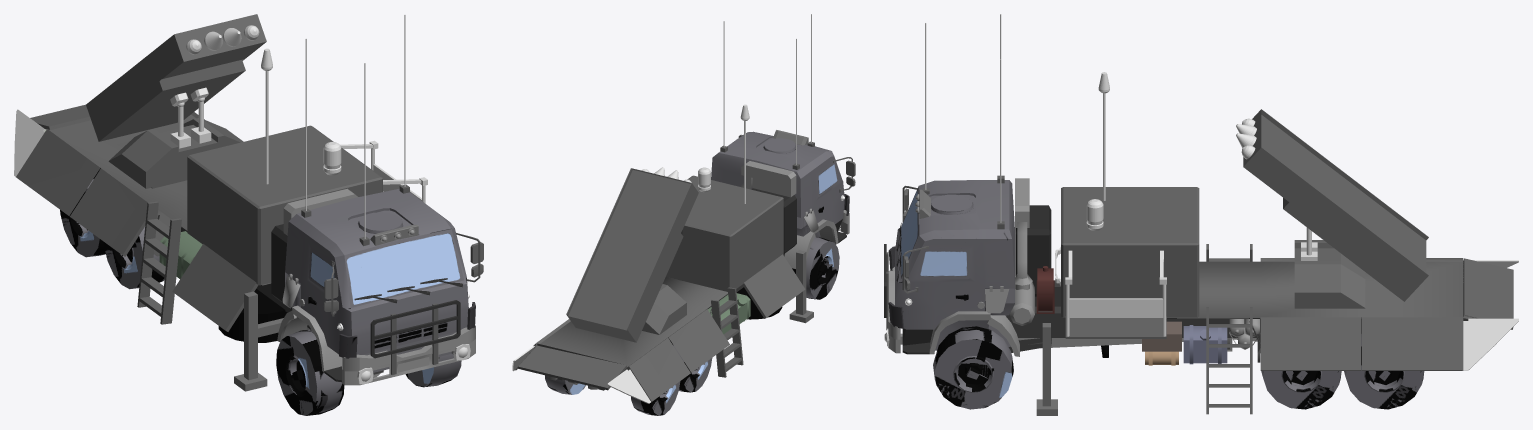
File: everything-is-deployed.fbx
3 renders of one model, left to right at view 1: azimuth 30°, elevation 25°; view 2: azimuth 150°, elevation 25°; view 3: azimuth 270°, elevation 25°, orthographic. The views are drawn at different scales.
Parts seen in each view (by area): view 1: Куб.131, Куб.136, Cube, Cube.002, Цилиндр.051, Cube.001, Cube.008, Куб.096, Cube.016, Cube.007, Цилиндр.053, Cube.011 (+17 smaller); view 2: Куб.136, Cube.002, Cube, Куб.131, Цилиндр.051, Cube.008, Цилиндр.059, Cube.001, Цилиндр.001, Cube.015, Cube.016, Cube.011 (+6 smaller); view 3: Куб.136, Cube, Куб.131, Cube.002, Цилиндр.051, Cube.001, Цилиндр.001, Цилиндр.053, Цилиндр.059, Куб.118, Cube.018, Cube.015 (+12 smaller).
Boxes of the visible parts, box(x1,y1,x2,y2) form: Куб.131: box(285, 188, 475, 372); Куб.136: box(16, 104, 270, 331); Cube: box(187, 125, 382, 285); Cube.002: box(86, 14, 266, 141); Цилиндр.051: box(276, 329, 461, 415); Cube.001: box(108, 118, 243, 188); Cube.008: box(137, 201, 181, 324); Куб.096: box(342, 325, 475, 385); Cube.016: box(234, 291, 283, 391); Cube.007: box(370, 300, 460, 358); Цилиндр.053: box(103, 226, 164, 289); Cube.011: box(14, 109, 45, 176); Куб.136: box(515, 254, 805, 401); Cube.002: box(566, 168, 698, 342); Cube: box(666, 175, 783, 291); Куб.131: box(711, 131, 849, 237); Цилиндр.051: box(792, 237, 839, 299); Cube.008: box(711, 287, 743, 377); Цилиндр.059: box(740, 161, 796, 197); Cube.001: box(642, 284, 686, 334); Цилиндр.001: box(545, 375, 680, 415); Cube.015: box(751, 188, 796, 253); Cube.016: box(789, 250, 813, 323); Cube.011: box(607, 369, 650, 403); Куб.136: box(1065, 258, 1513, 370); Cube: box(1061, 187, 1199, 317); Куб.131: box(888, 180, 1014, 350); Cube.002: box(1243, 109, 1428, 301); Цилиндр.051: box(933, 326, 1013, 409); Cube.001: box(1294, 240, 1365, 308); Цилиндр.001: box(1344, 334, 1424, 409); Цилиндр.053: box(1261, 371, 1341, 409); Цилиндр.059: box(1009, 178, 1034, 325); Куб.118: box(1006, 280, 1468, 352); Cube.018: box(1068, 298, 1163, 317); Cube.015: box(1015, 205, 1051, 296).
Size of the model in its own units: 709 by 1202 by 2029.
Materials: 66 (2 with a texture image).
